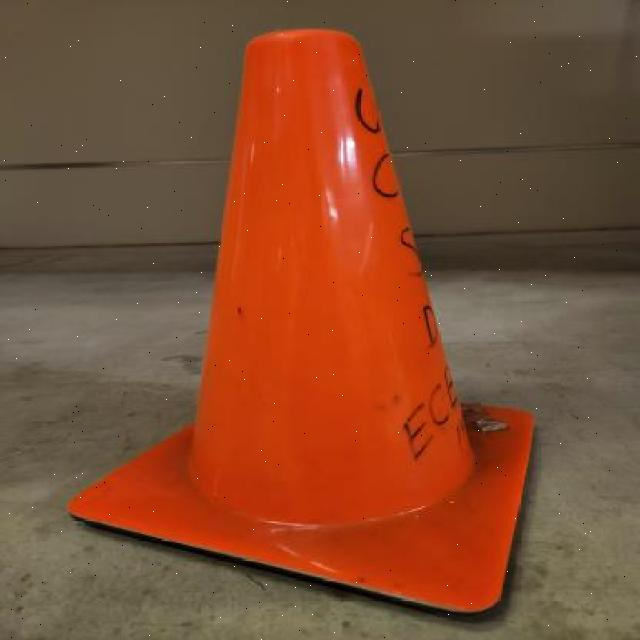traffic cone: (63, 19, 546, 625)
